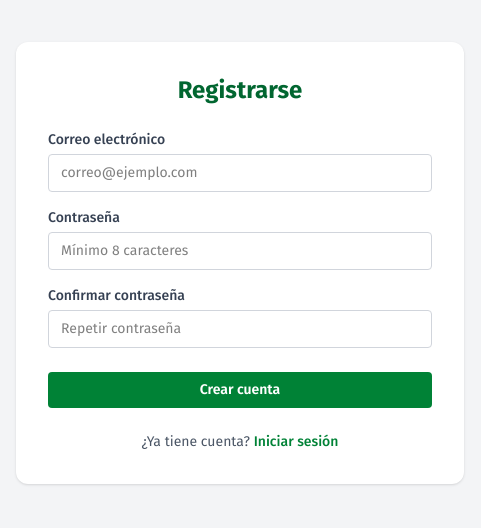
Test: RegisterPage › shows error when password is too short
Type "new@test.com" into the field labelled "Correo electrónico". click: (240,173)
box: [48,154,432,192]
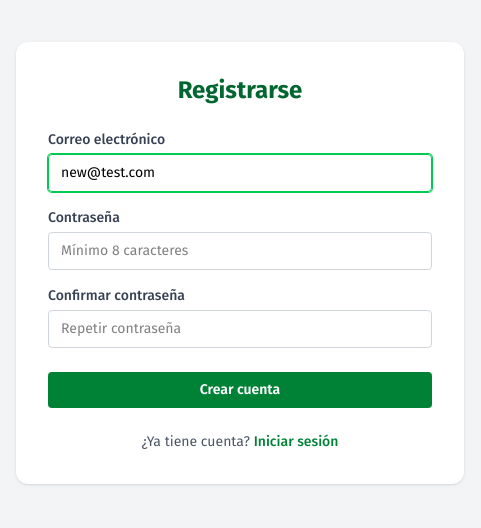
Type "1234567" into the password field labelled "Contraseña". click: (240,251)
box: [48,232,432,270]
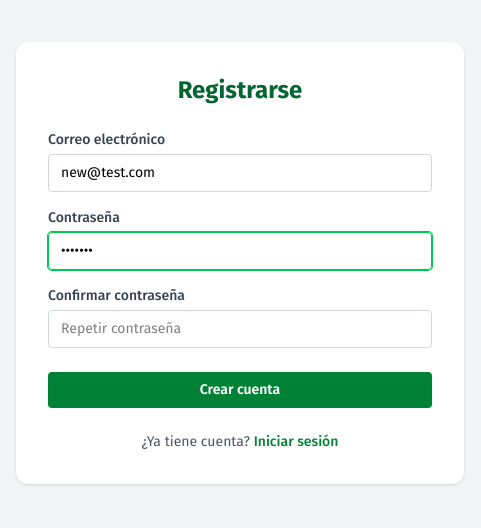
Type "1234567" into the password field labelled "Confirmar contraseña". click: (240,329)
box: [48,310,432,348]
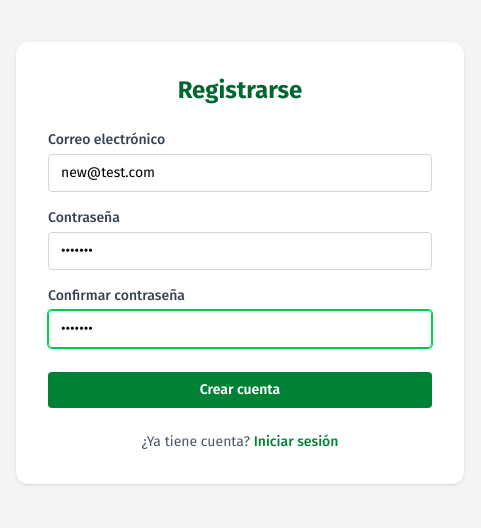
Click the button "Crear cuenta". click: (240,390)
box: [48,372,432,408]
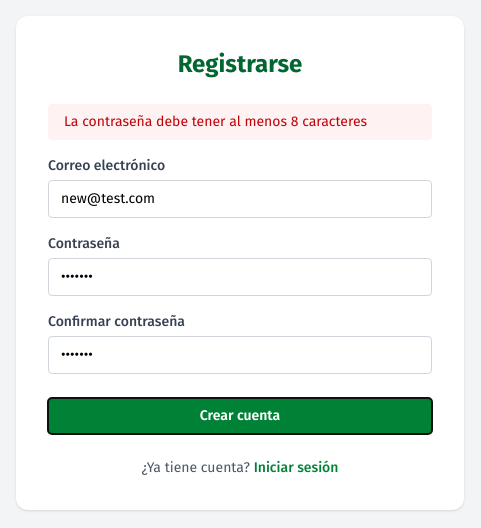
Expected: the text "La contraseña debe tener al menos 8 caracteres" is shown, [48,104,432,140]
